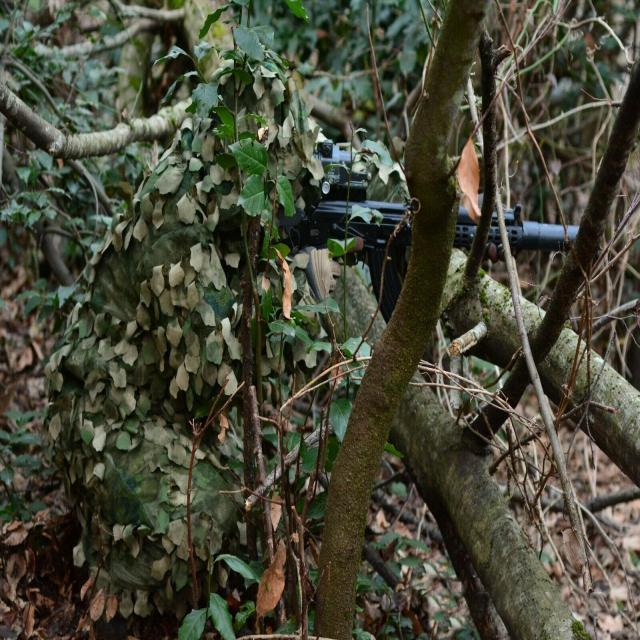Camouflage: (45, 52, 402, 614)
